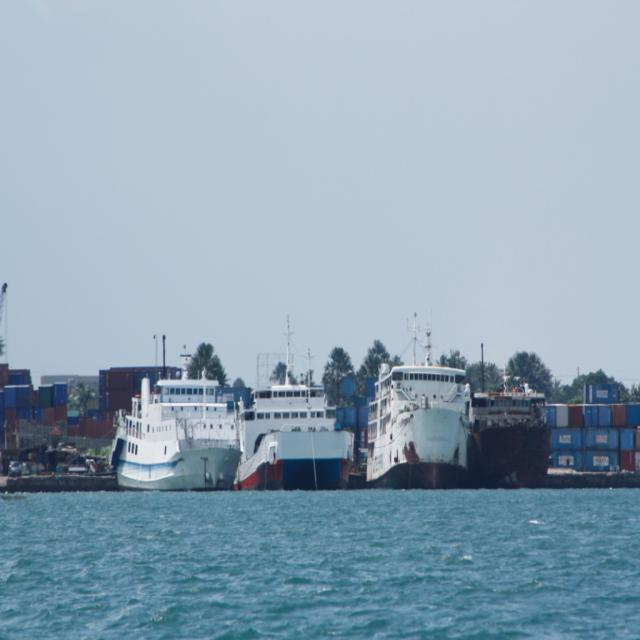Boat: (366, 311, 472, 490)
